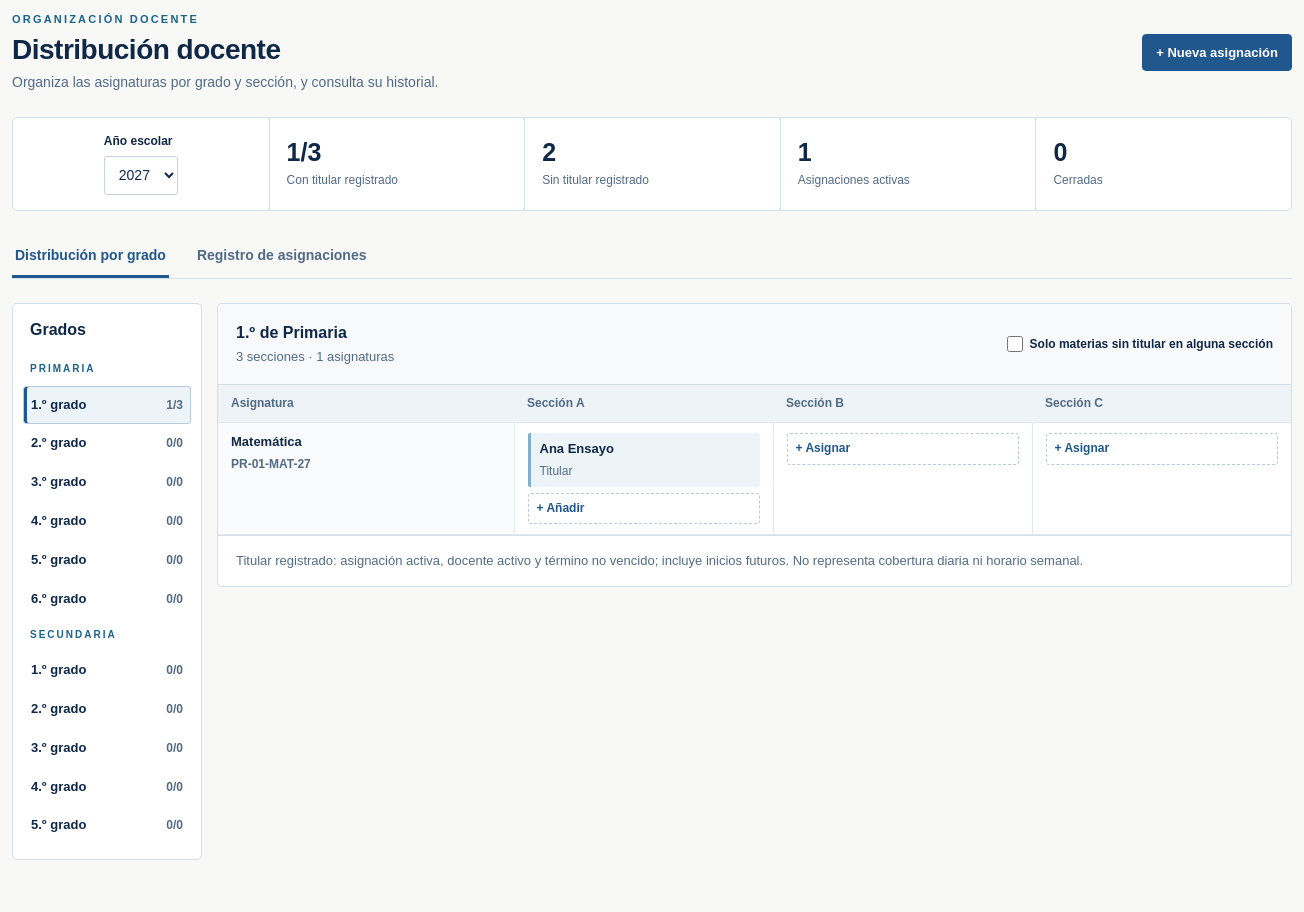
Asignaciones docentes › no presenta resultados del año anterior al cambiar el año
This screenshot has width=1304, height=912.
Select "2026" in the dropdown labelled "Año escolar" at [141, 175], box [104,156,178,194]
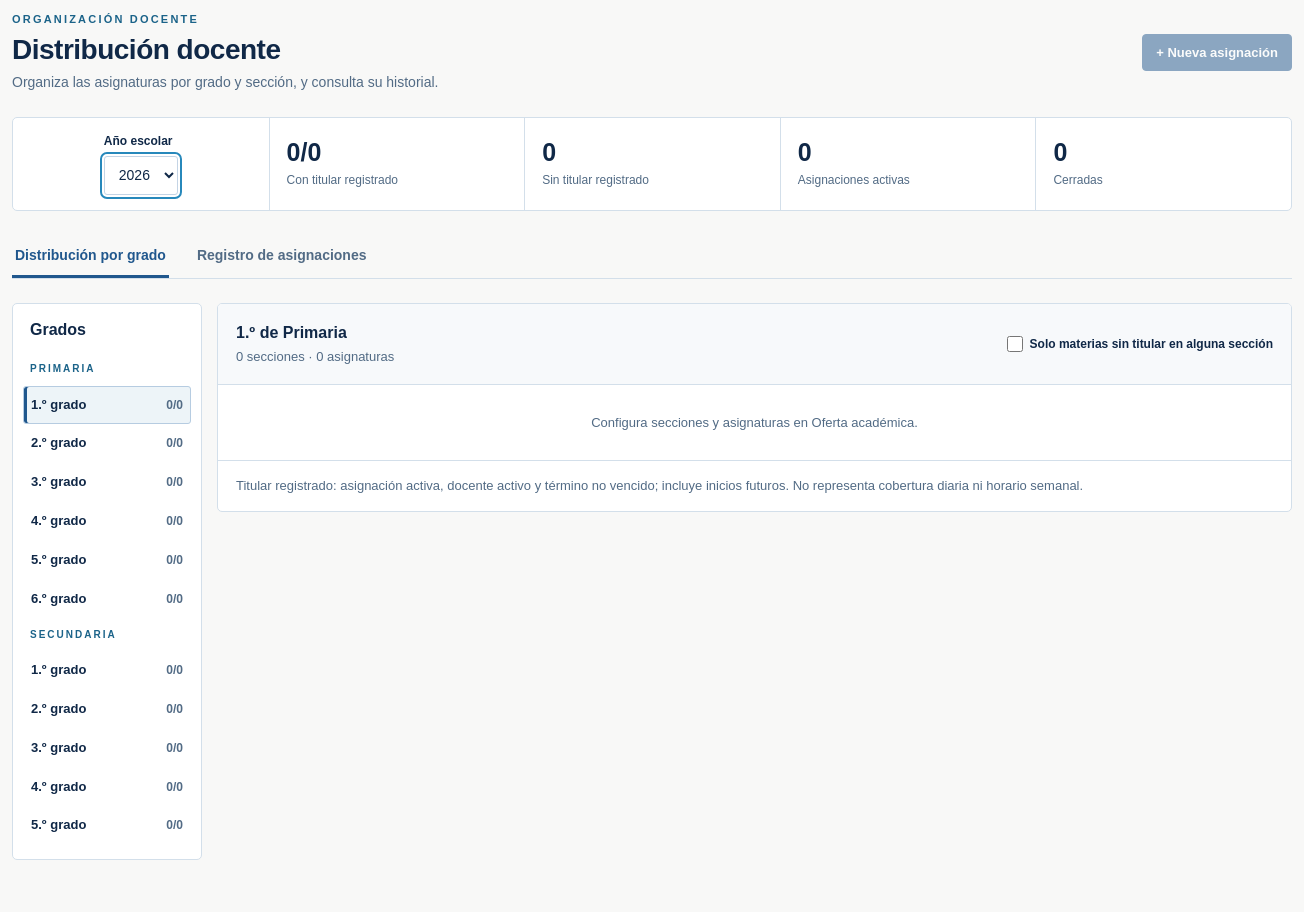
expect the text "Configura secciones y asignaturas en Oferta académica." is shown: met, box [591,415,918,430]
expect the button "Ana Ensayo" is gone: met
